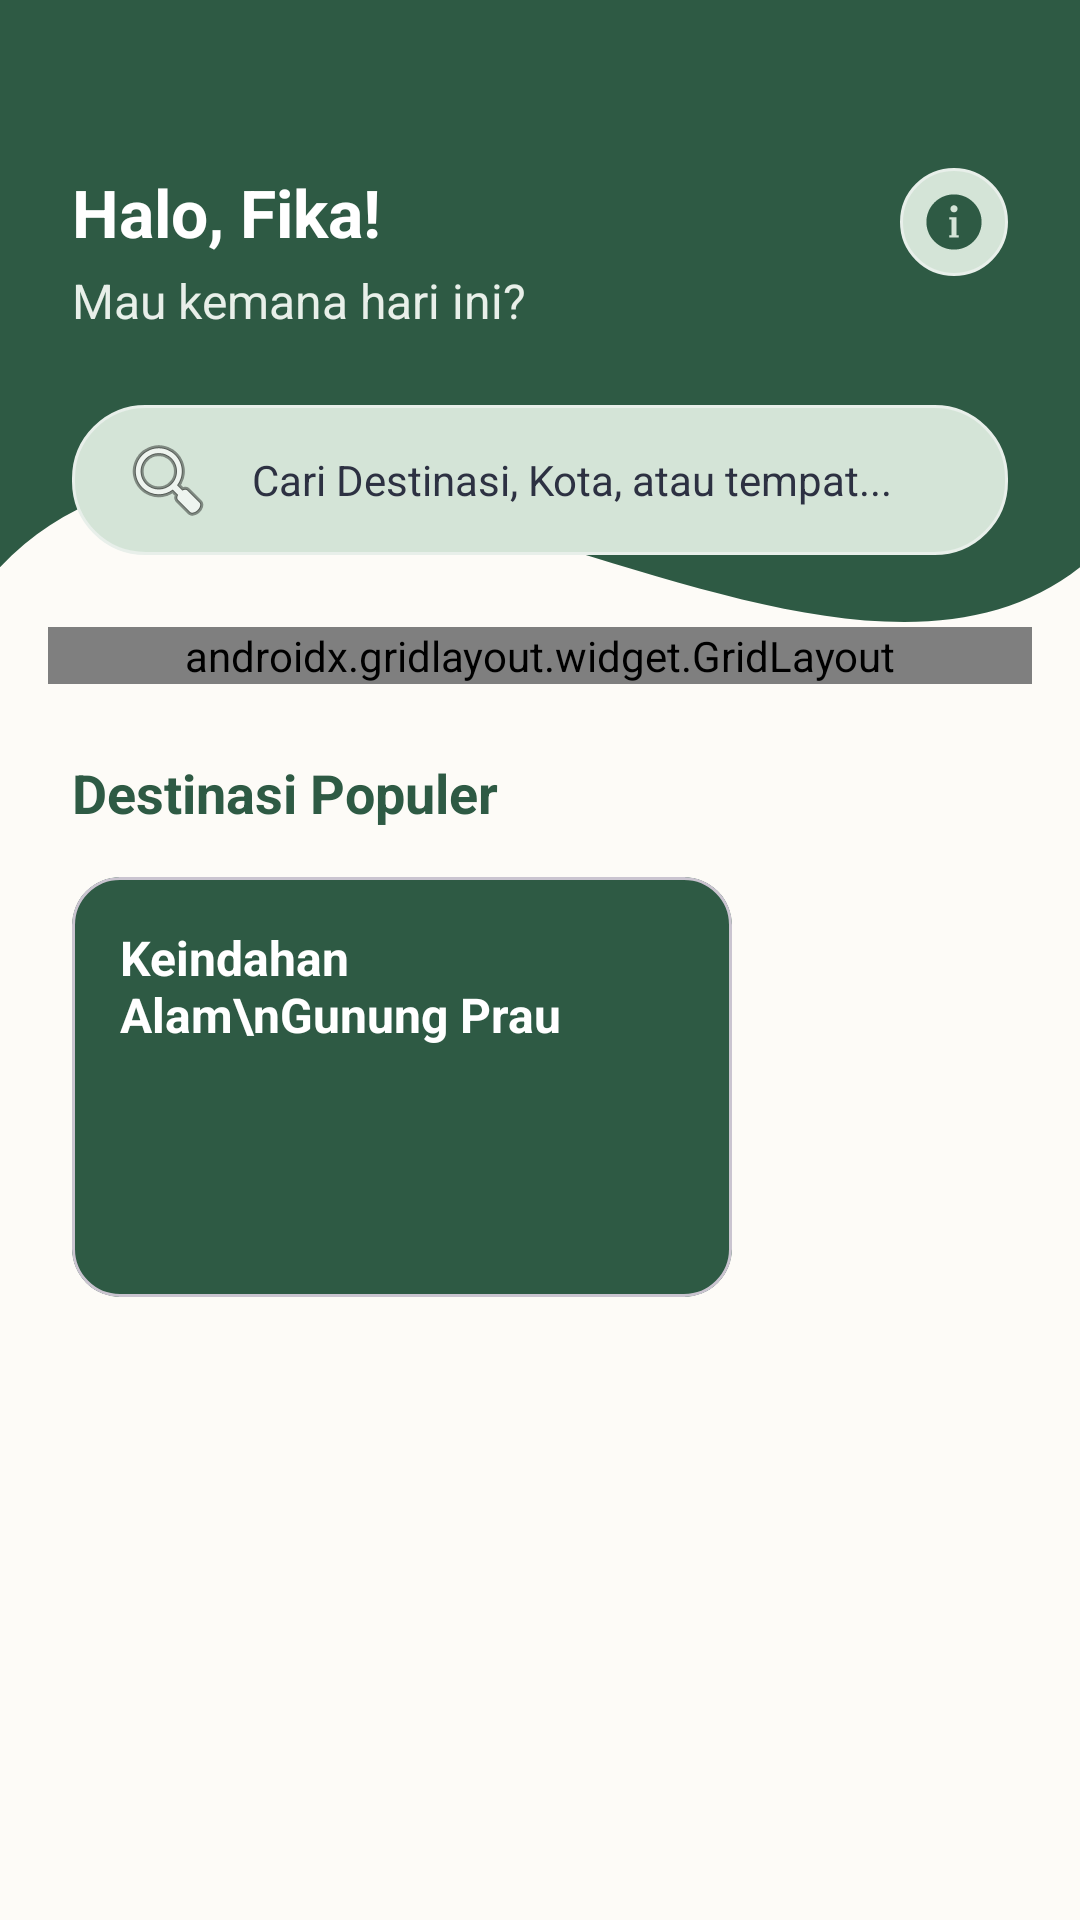

Named icons in this screenshot (1080 x 1920) and their centers, point (x, y):
info: point (954, 222)
